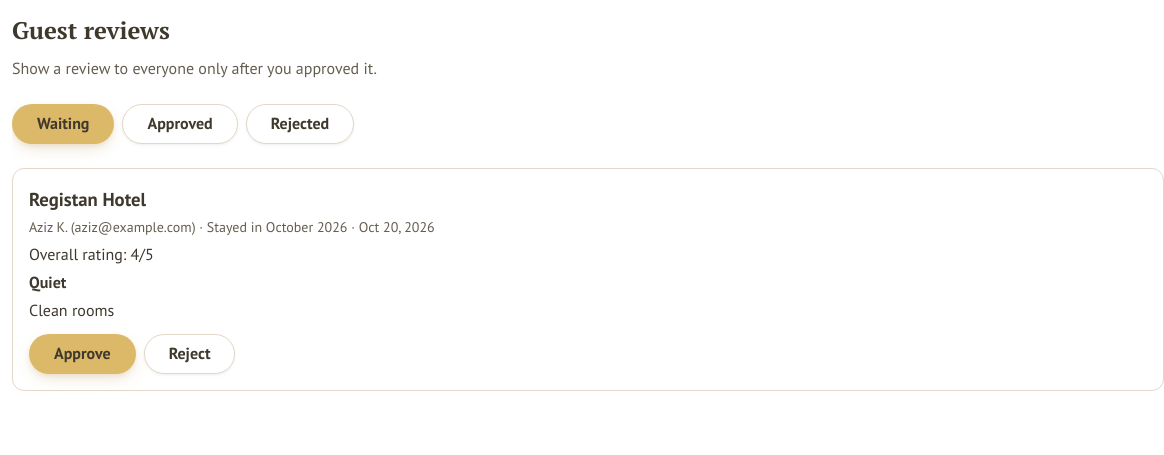
Test: AdminReviewModeration › keeps the review and shows the problem when the decision is refused
What coordinates should you click on to do the following:
click the button "Approve"
I would click on:
 (82, 354)
Its box is [29, 334, 136, 374].
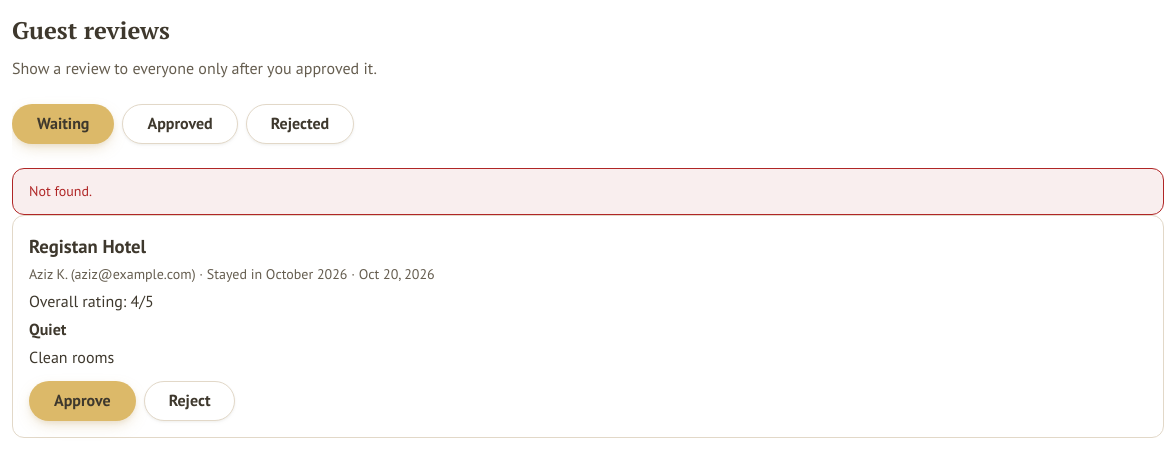
Expected: the heading "Registan Hotel" is shown, [29, 234, 146, 258]
Expected: the message reads "Not found.", [29, 182, 92, 200]
